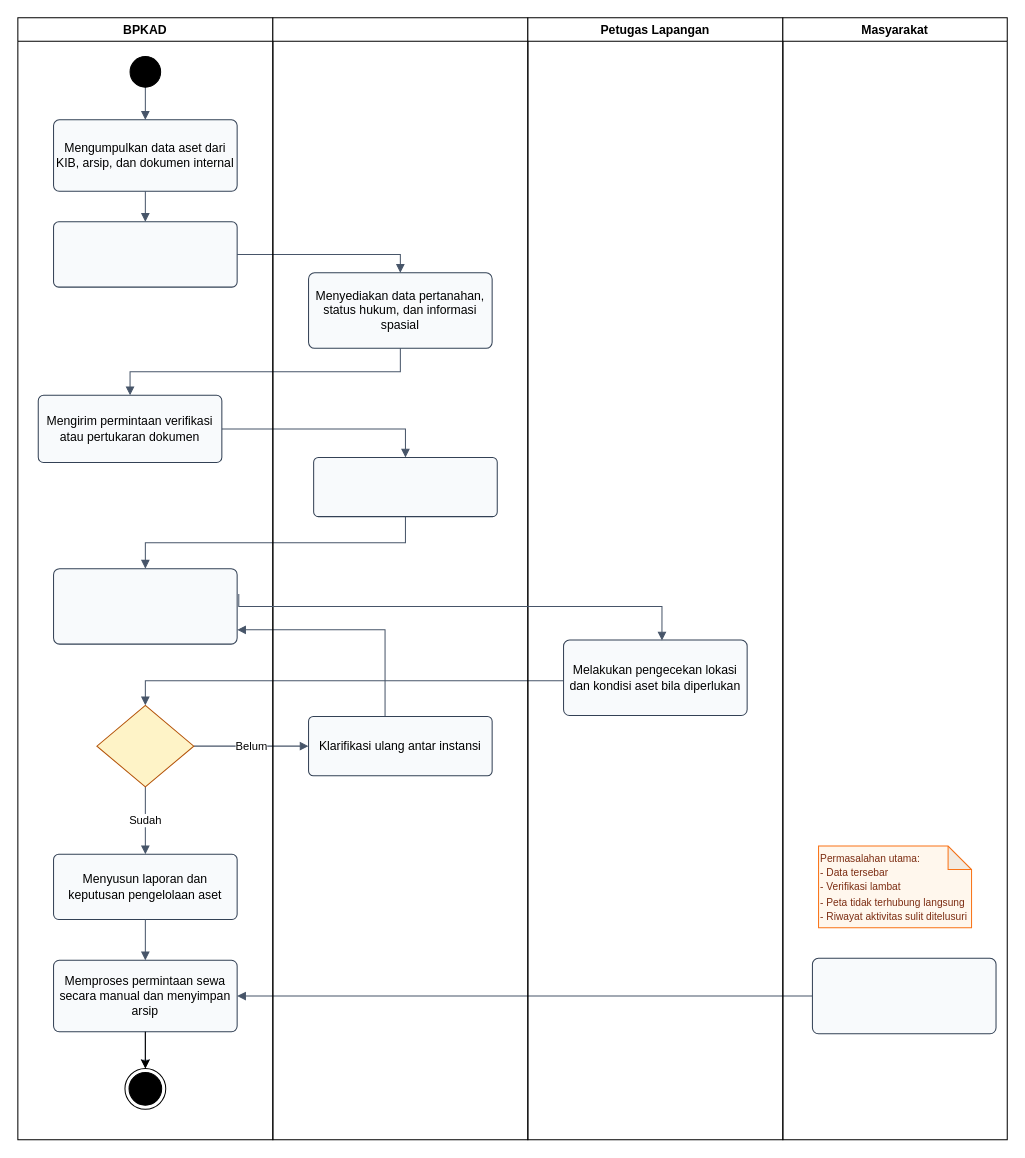
Some shapes in this 1025 by 1158 pixel diagram are drawn without their labels. Here are the shapes that lost their labels. From the top down, the box of each, then its label:
(53, 221, 237, 287): Menyusun daftar aset tanah dalam dokumen terpisah
(313, 456, 497, 517): Memeriksa dokumen secara manual
(272, 17, 528, 1140): BPN
(53, 568, 237, 644): Mencocokkan data aset BPKAD dengan hasil verifikasi BPN
(96, 704, 194, 787): Data lengkap dan sesuai?
(811, 957, 996, 1034): Meminta informasi atau mengajukan sewa melalui komunikasi langsung
